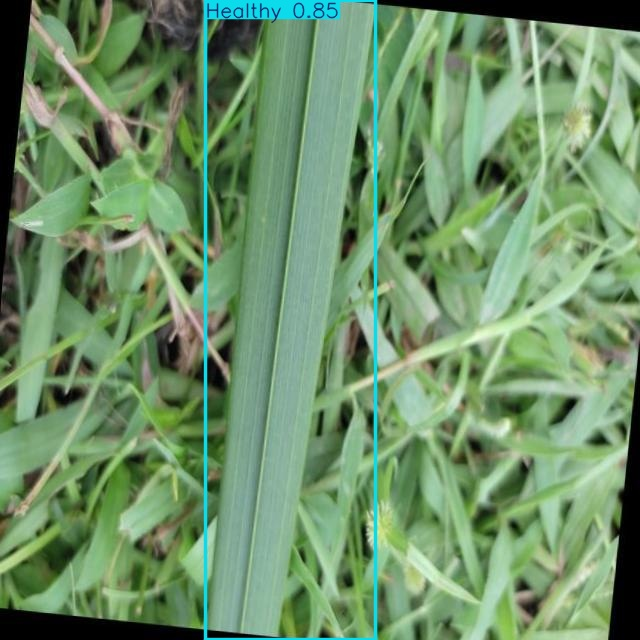Healthy: (205, 1, 375, 639)
